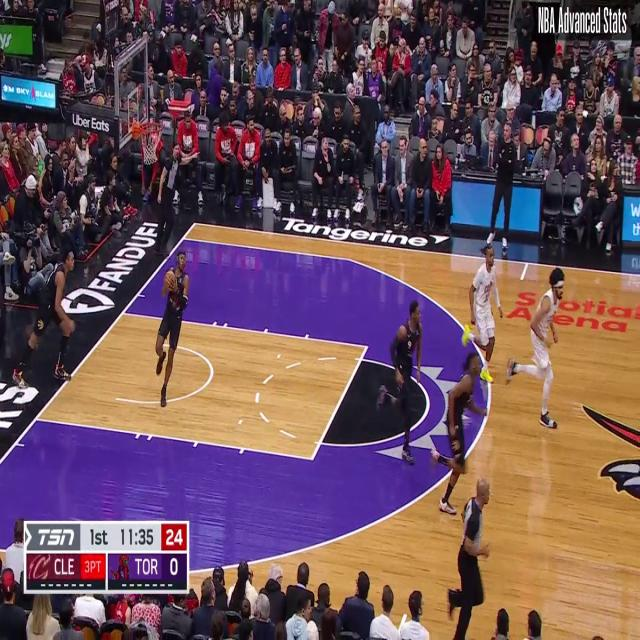ball: (161, 267, 178, 295)
judge: (446, 479, 488, 632), (153, 146, 187, 252)
player: (506, 267, 564, 431), (9, 250, 78, 387), (430, 350, 486, 511), (382, 298, 424, 468), (155, 250, 189, 408), (467, 244, 503, 384)
